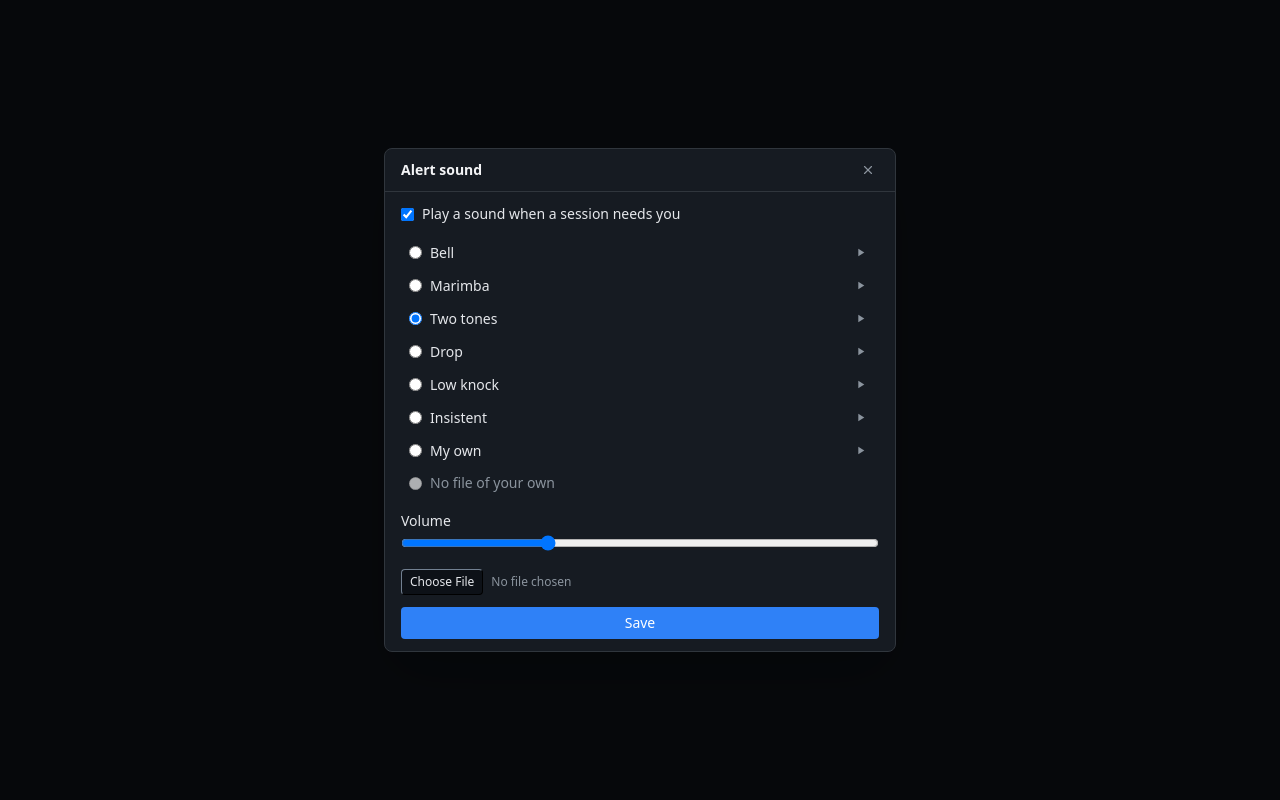
it: Ajustes de la campanilla › «el mío» empieza copiando el sonido que estaba puesto
Click the radio button labelled "My own".
click(416, 450)  # box 409,444 -> 422,457
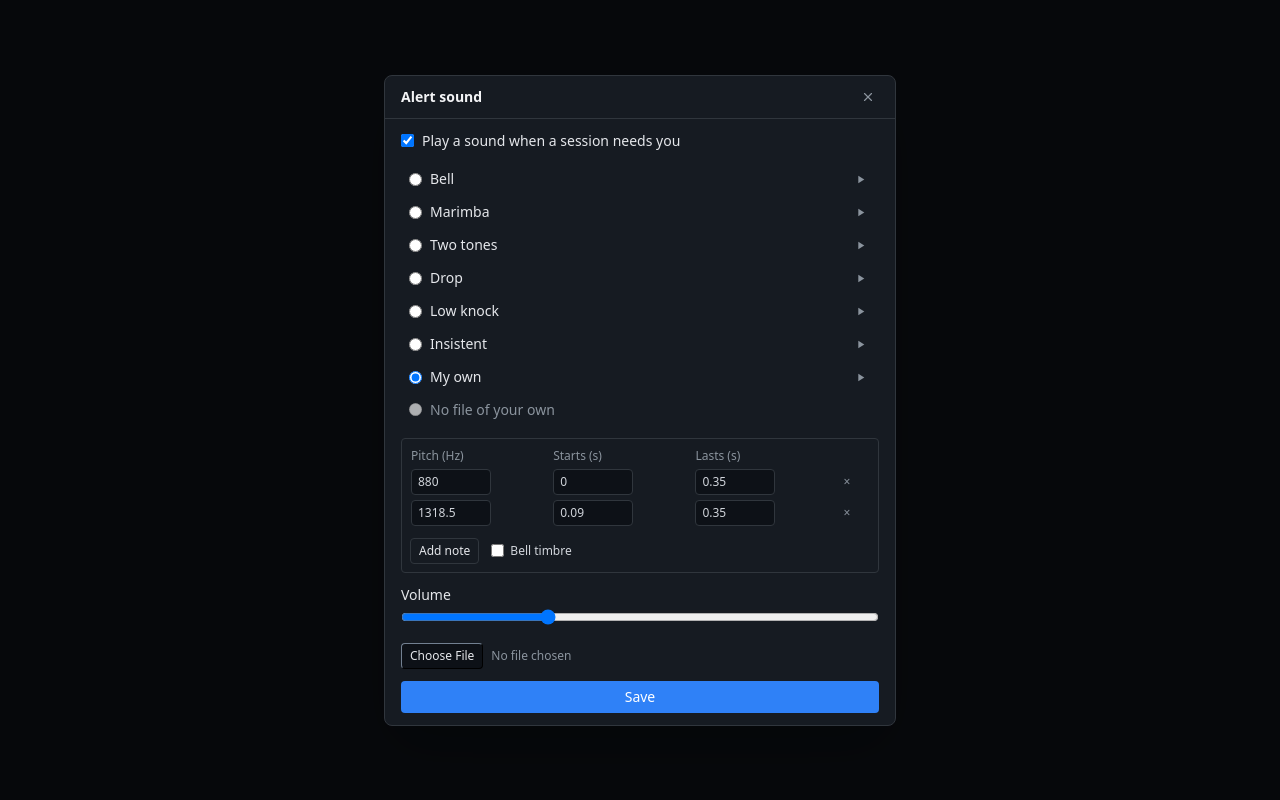
Now the number of number fields named "Pitch (Hz)" is 2, box 411,468 -> 491,494; 411,500 -> 491,526
Now the 1st number field named "Pitch (Hz)" holds "880", box 411,468 -> 491,494
